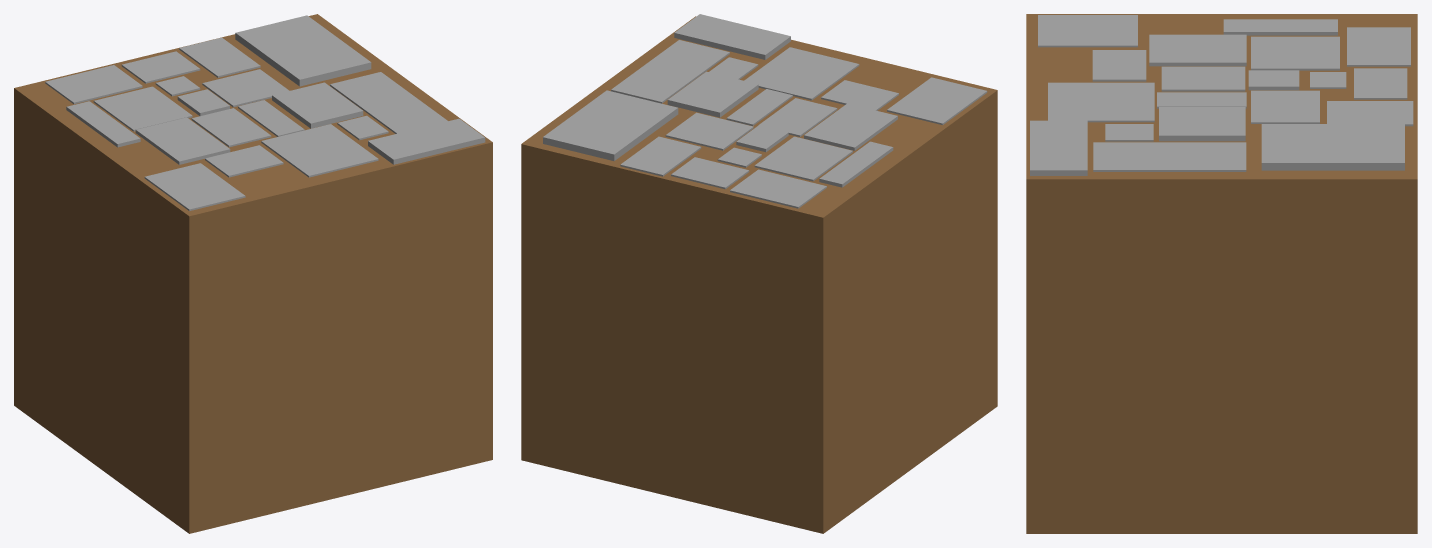
The model's file is RPG_Tiles_Square_Dirt_Paved_01.FBX.
3 renders of one model, left to right at view 1: azimuth 30°, elevation 25°; view 2: azimuth 150°, elevation 25°; view 3: azimuth 270°, elevation 25°, orthographic. The views are drawn at different scales.
Parts seen in each view (by area): view 1: RPG_Tiles_Square_Dirt_Paved_01; view 2: RPG_Tiles_Square_Dirt_Paved_01; view 3: RPG_Tiles_Square_Dirt_Paved_01.
Boxes of the visible parts, x1,y1,x2,y2 form: RPG_Tiles_Square_Dirt_Paved_01: (14,14,492,533); RPG_Tiles_Square_Dirt_Paved_01: (521,14,997,533); RPG_Tiles_Square_Dirt_Paved_01: (1026,14,1417,533).
Bounding box in the file's own units: 3000 × 3064 × 3000.
